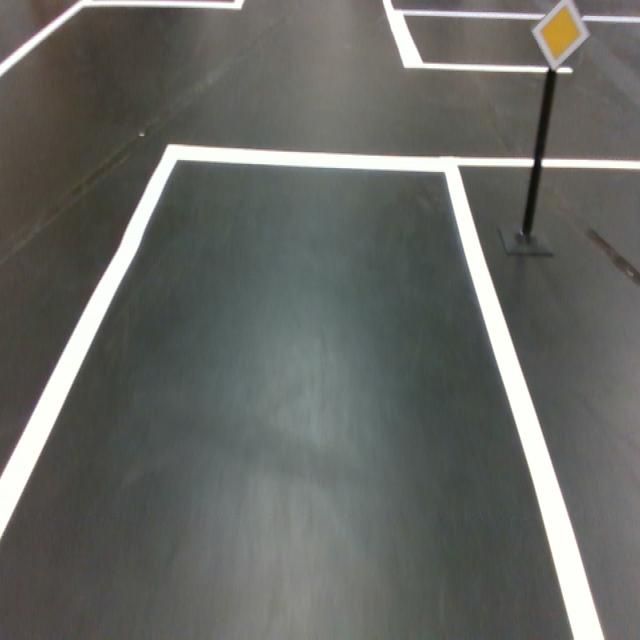priority-sign: (530, 0, 591, 72)
